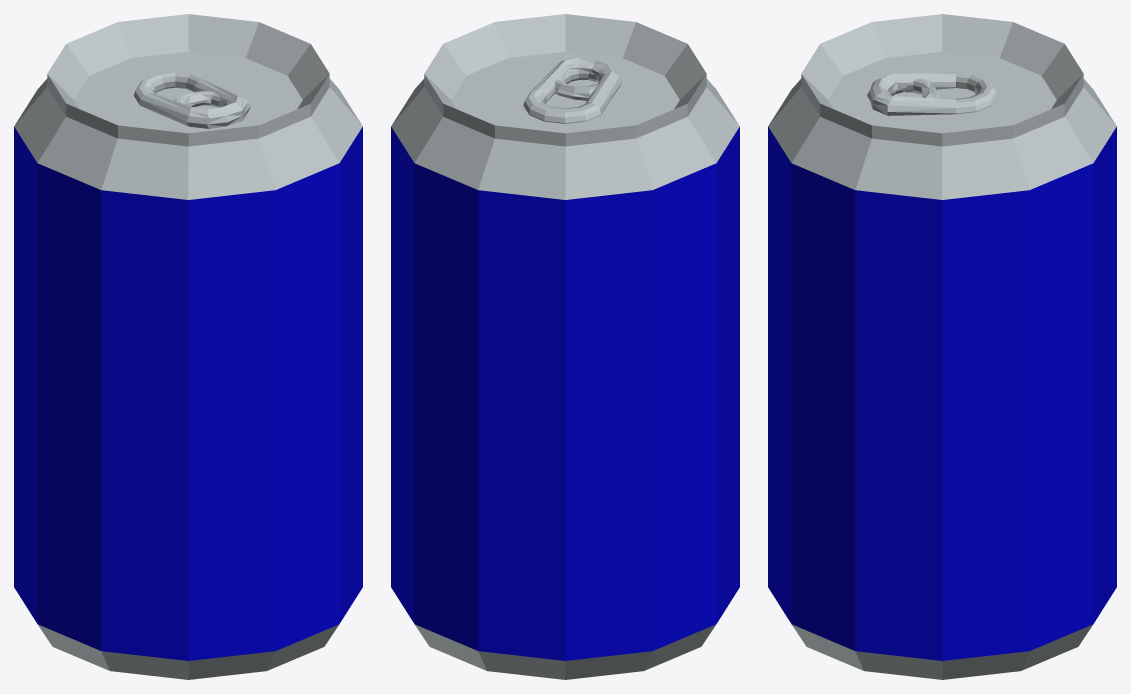
Rendered from asdasdsadasdas.fbx.
3 renders of one model, left to right at view 1: azimuth 30°, elevation 25°; view 2: azimuth 150°, elevation 25°; view 3: azimuth 270°, elevation 25°, orthographic.
Parts seen in each view (by area): view 1: Mesh1; view 2: Mesh1; view 3: Mesh1.
Boxes of the visible parts, x1,y1,x2,y2 form: Mesh1: [14, 14, 362, 679]; Mesh1: [391, 14, 739, 679]; Mesh1: [768, 14, 1116, 679].
Size of the model in its own units: 328 by 560 by 328.
